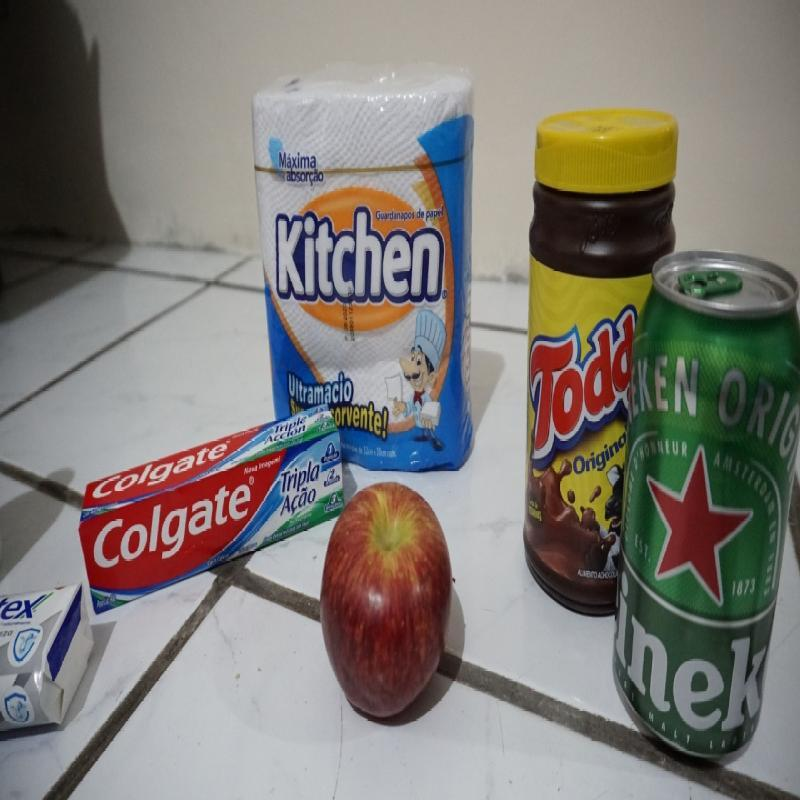Apple: (318, 483, 454, 718)
Beer can: (611, 248, 800, 760)
Chocolate Powder: (521, 103, 679, 614)
Napkin: (249, 61, 477, 479)
Soap: (0, 585, 98, 736)
Toothpaste: (78, 402, 341, 621)
